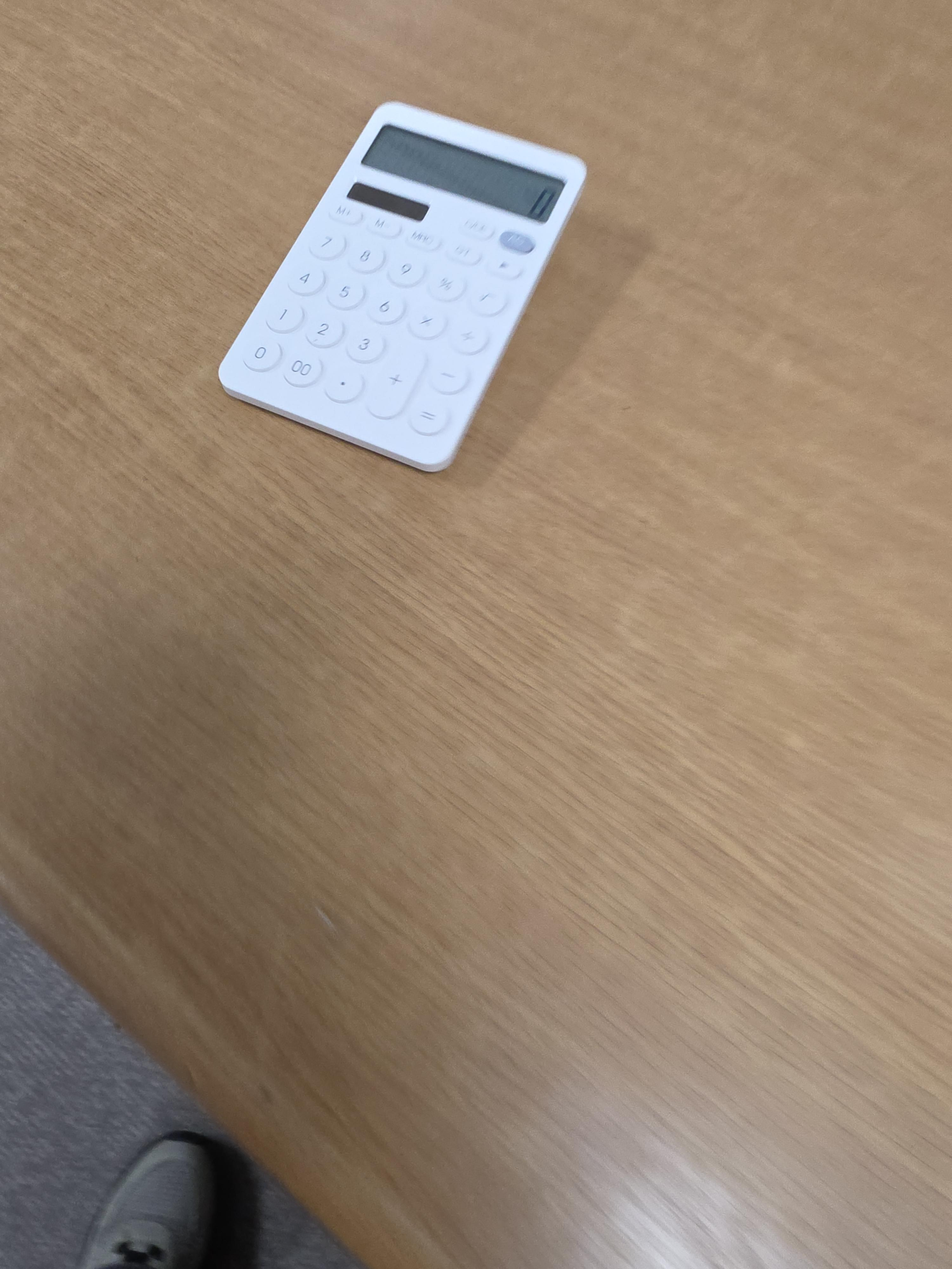calculator: (218, 102, 588, 472)
